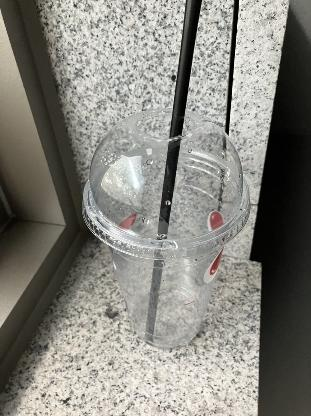Plastic Cup: (82, 104, 254, 350), (76, 107, 258, 261)
